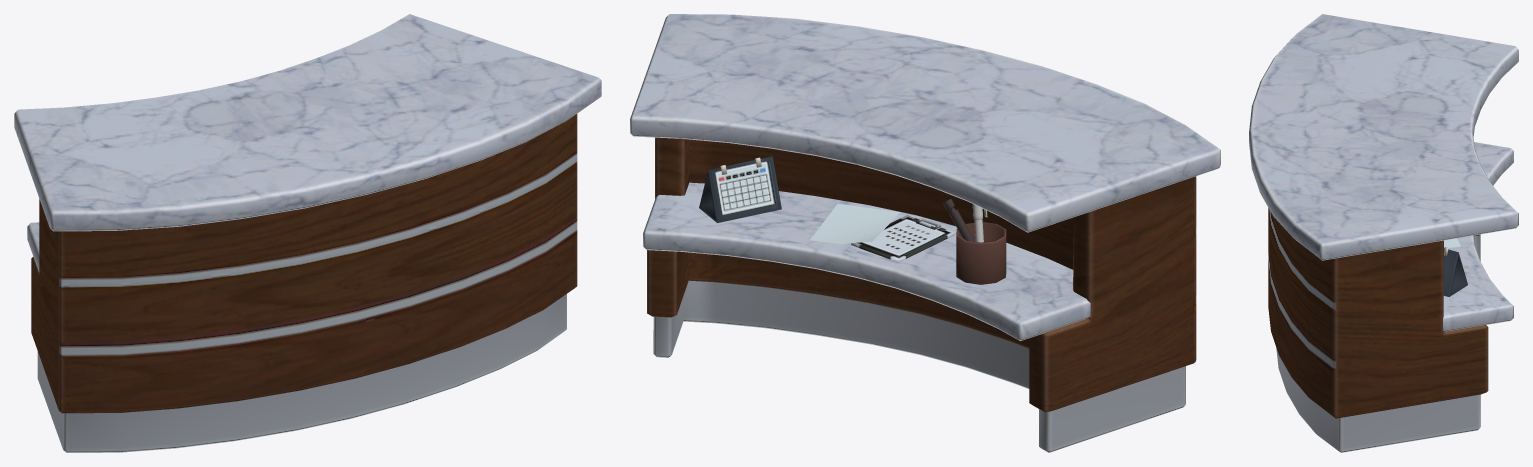
The model's file is reception.fbx.
3 renders of one model, left to right at view 1: azimuth 30°, elevation 25°; view 2: azimuth 150°, elevation 25°; view 3: azimuth 270°, elevation 25°, orthographic. The views are drawn at different scales.
Visible parts, largest first — view 1: BinderParts_low__mReBody; view 2: BinderParts_low__mReBody; view 3: BinderParts_low__mReBody.
Boxes of the visible parts, bbox=[...] form: BinderParts_low__mReBody: bbox=[14, 14, 601, 452]; BinderParts_low__mReBody: bbox=[630, 14, 1220, 452]; BinderParts_low__mReBody: bbox=[1249, 14, 1518, 452].
Bounding box in the file's own units: 198 × 87.94 × 97.64.
